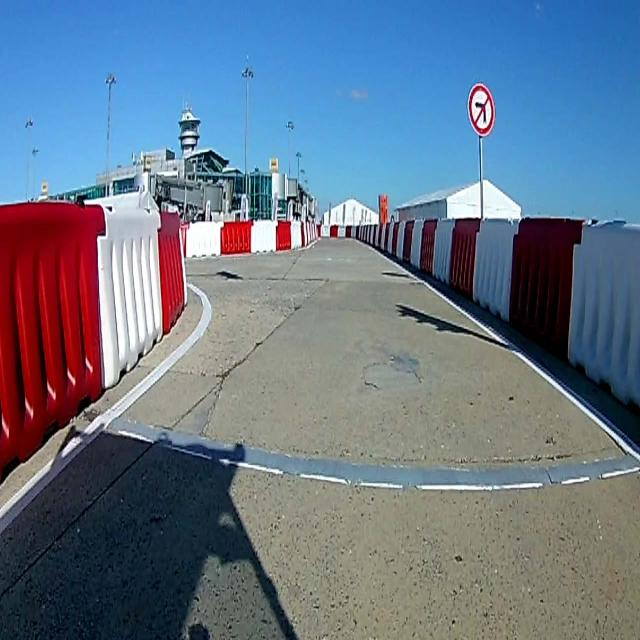soladonulmez: (467, 83, 495, 136)
